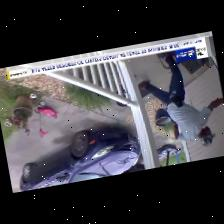person: (141, 52, 223, 145)
